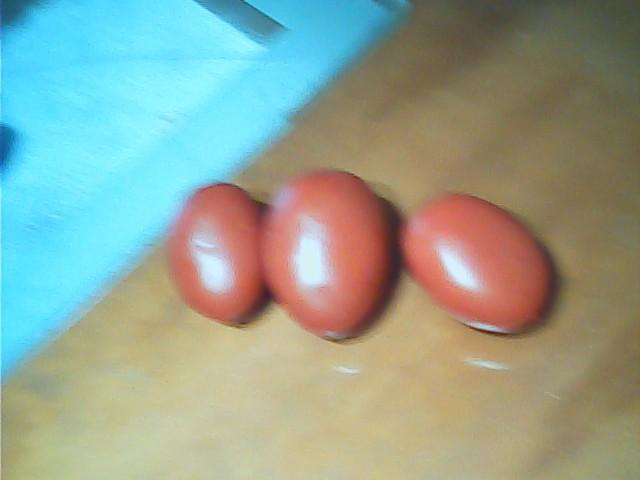maduro: (260, 164, 397, 343), (393, 192, 553, 338), (167, 183, 268, 326)
